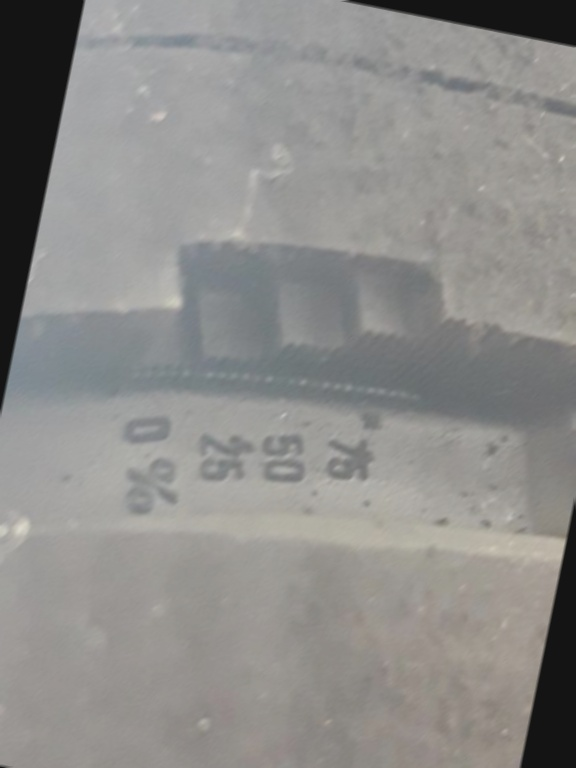temoin:95: (110, 186, 525, 476)
